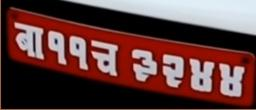1: (67, 34, 91, 73), (46, 29, 68, 67)
2: (160, 52, 186, 90)
3: (127, 47, 158, 82)
4: (217, 62, 248, 98), (187, 56, 216, 93)
ba: (11, 22, 44, 62)
cha: (90, 39, 123, 79)
